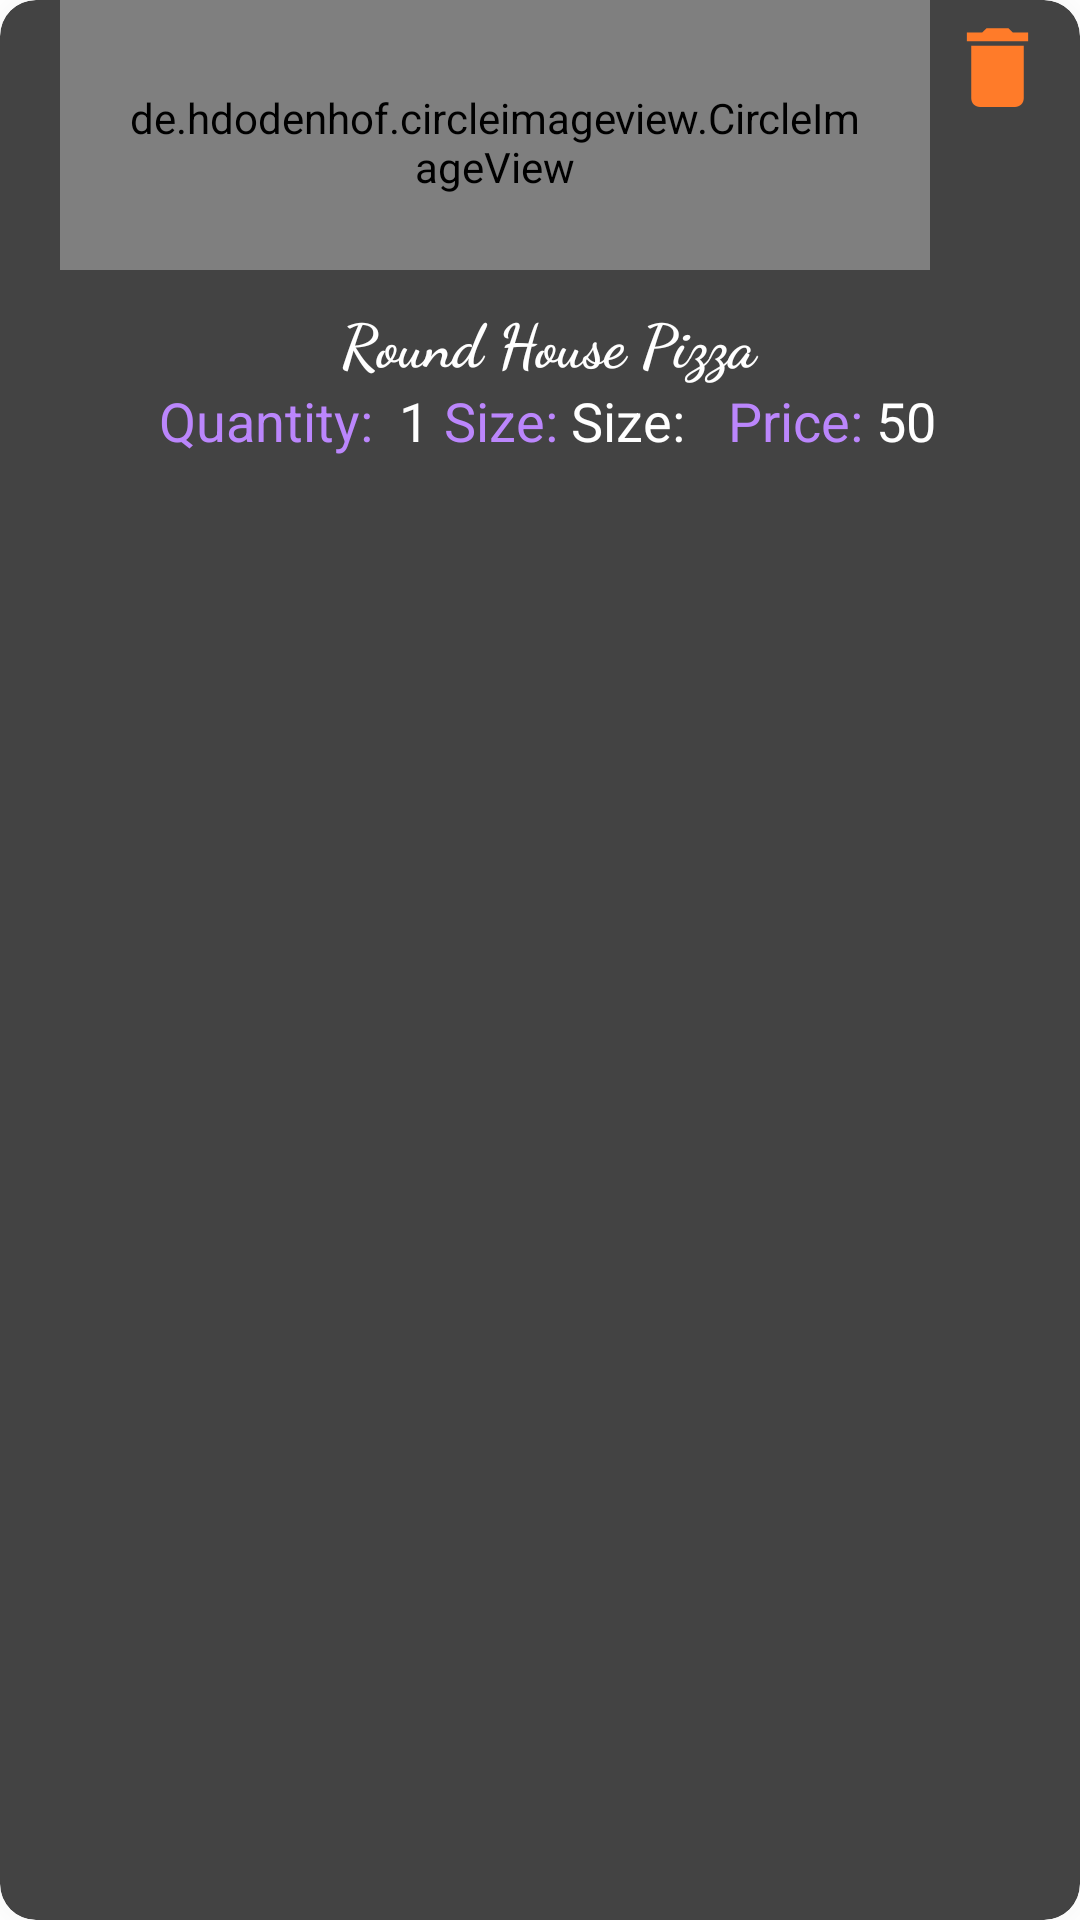

Icons on this 1080×1920 Android screen, each with the point to tap as [x,y]:
delete: [997,67]
